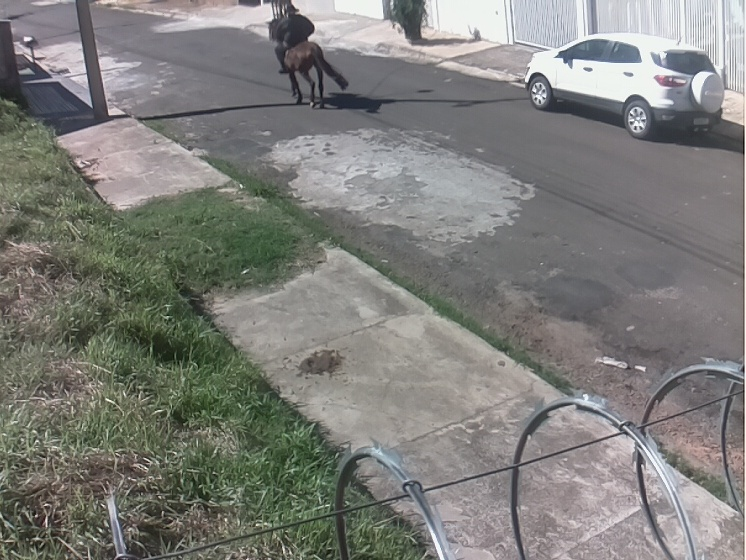person: (274, 4, 316, 74)
